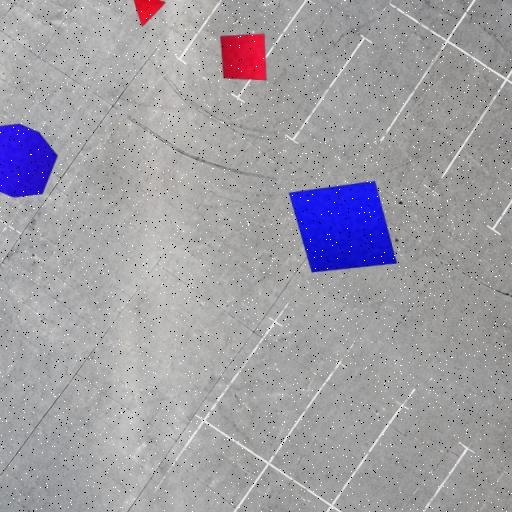BLUE_SQUARE: (288, 180, 398, 273)
RED_SQUARE: (220, 33, 267, 81)
